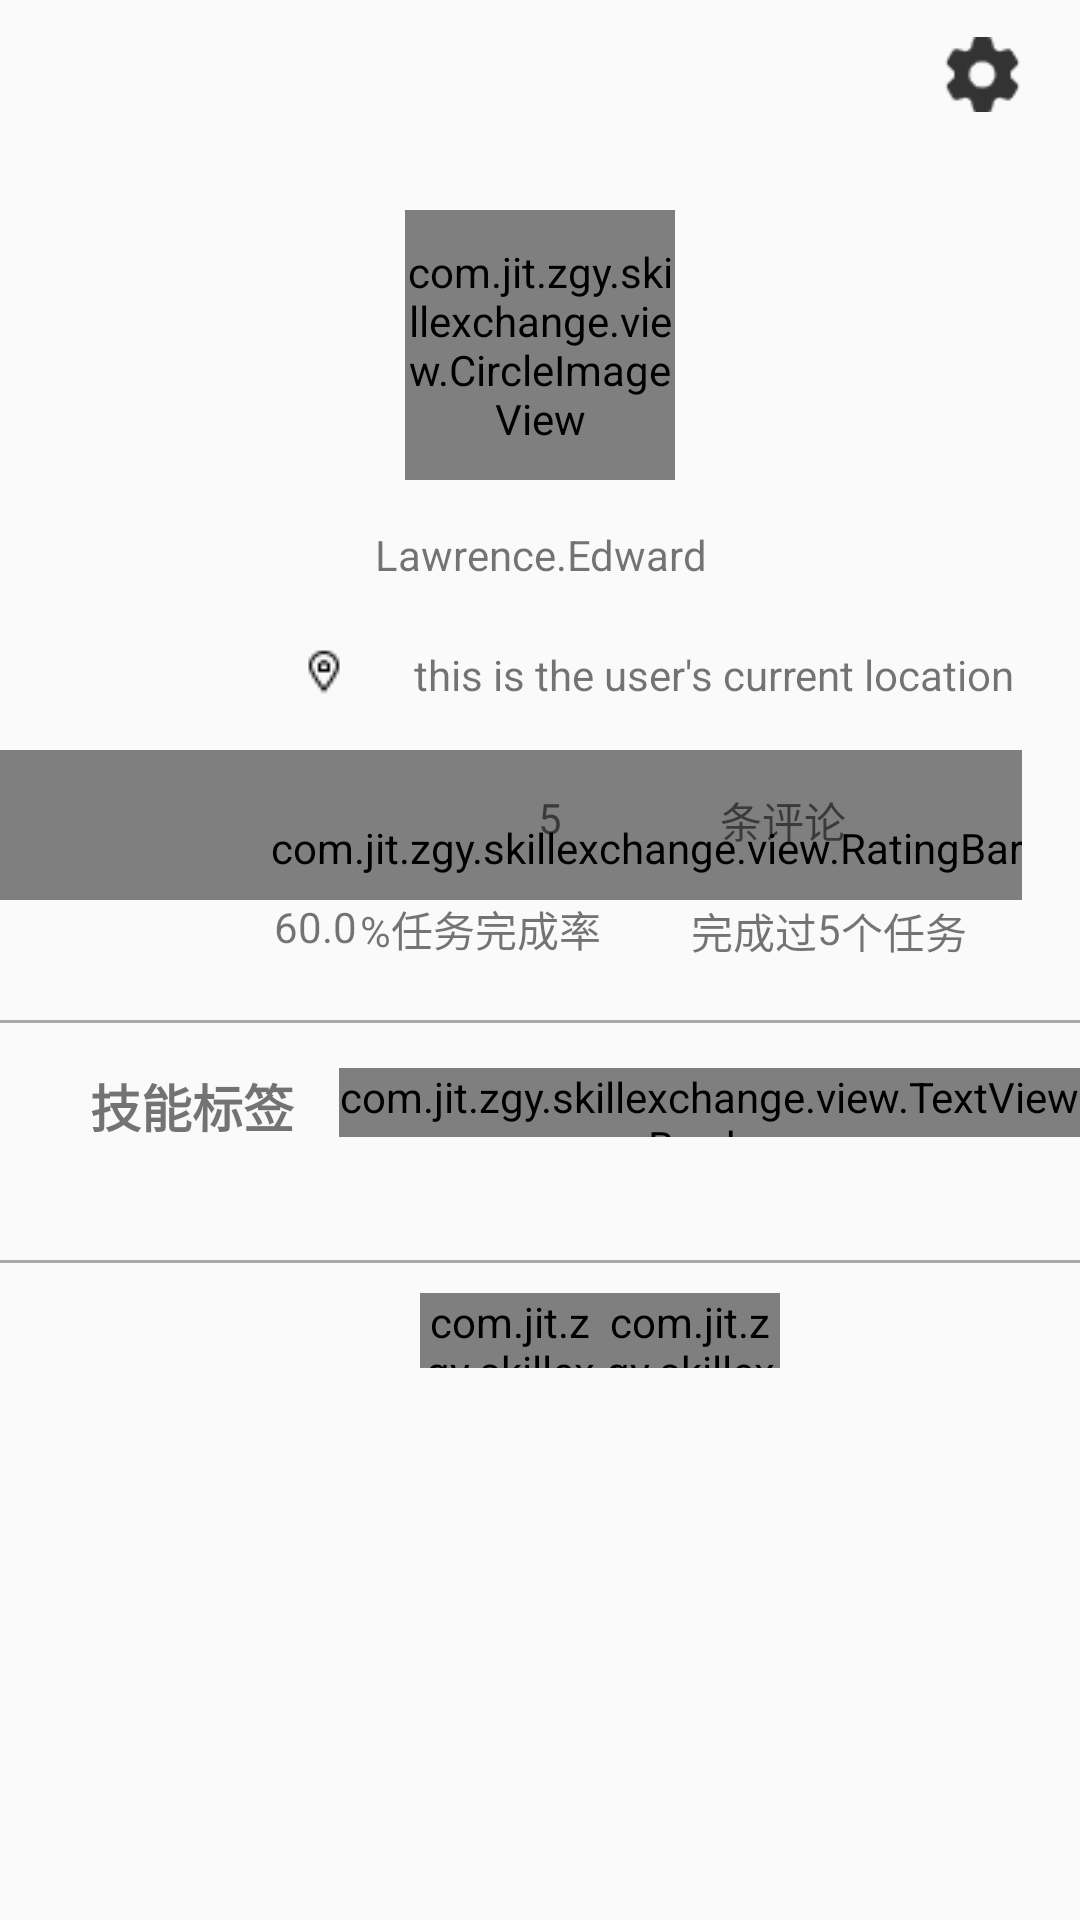

Screen size 1080 x 1920. Icon name, then its center in pixels as (x,y):
mine address: (324,671)
setting: (982,74)
